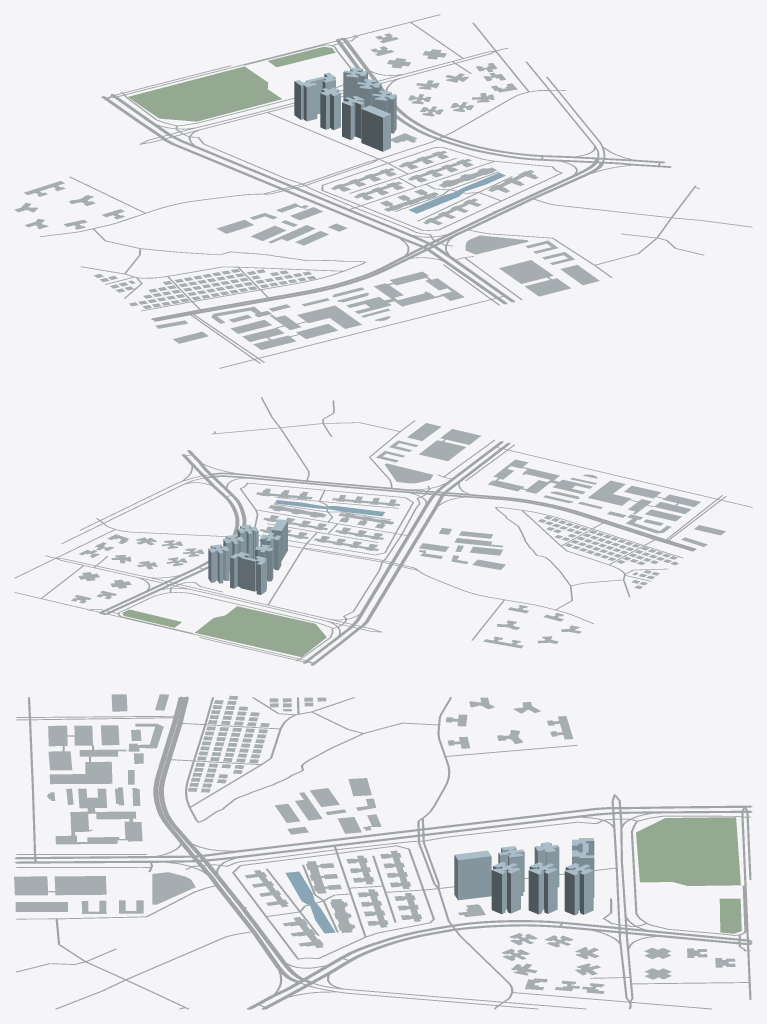
The model's file is -24_17-known-coarse.glb.
3 renders of one model, top to bottom at view 1: azimuth 30°, elevation 25°; view 2: azimuth 150°, elevation 25°; view 3: azimuth 270°, elevation 25°, orthographic. The views are drawn at different scales.
Size of the model in its own units: 1013 by 60 by 1002.
